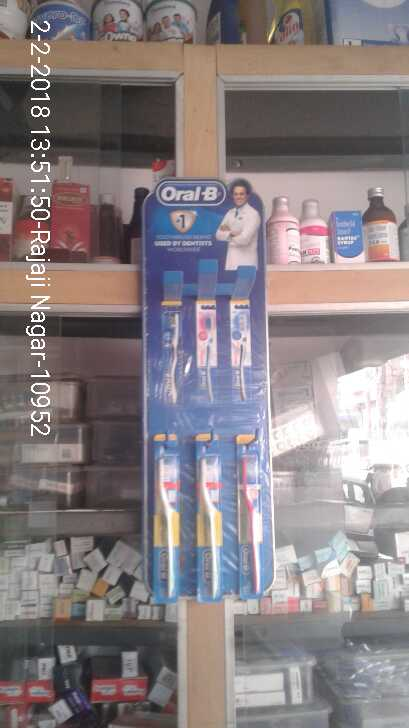oralb: (186, 441, 232, 590), (235, 443, 272, 599), (158, 453, 184, 596)
